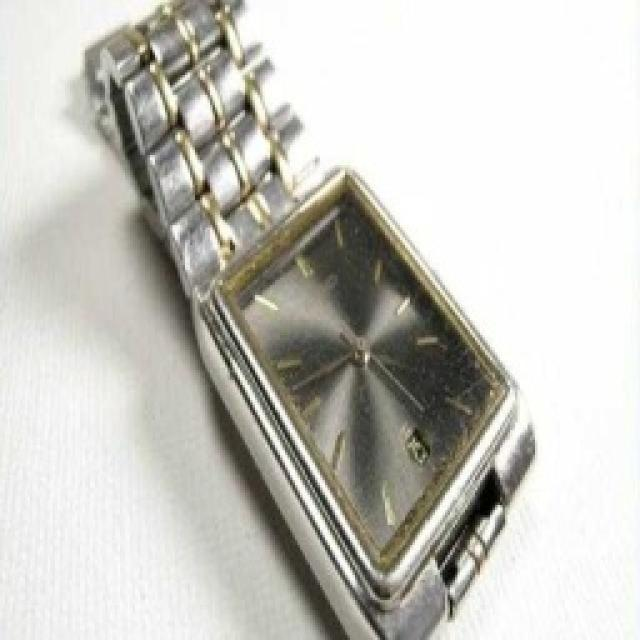saat: (78, 0, 544, 640)
